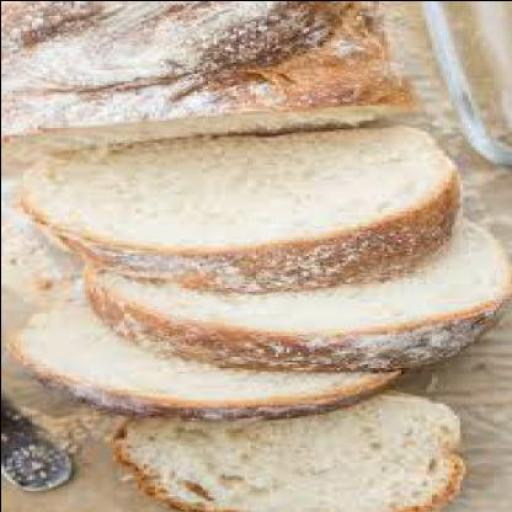biodegradable: (17, 124, 456, 290), (76, 212, 509, 369), (1, 1, 409, 160), (5, 296, 397, 417), (112, 387, 462, 510)
